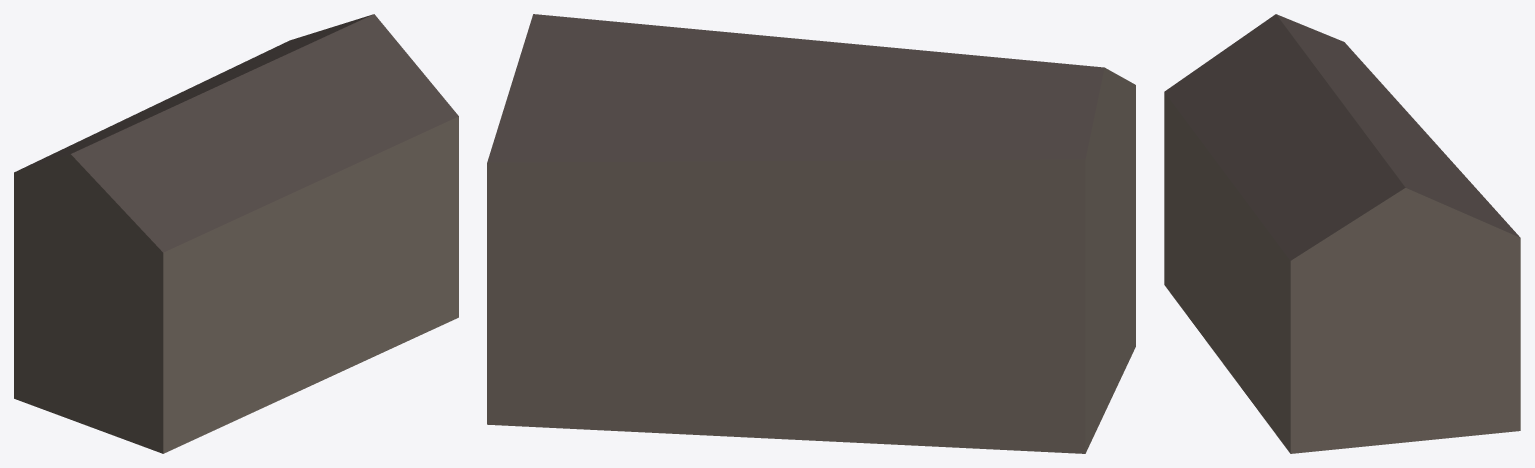
3 views of the same model, side by side, from view 1: azimuth 30°, elevation 25°; view 2: azimuth 150°, elevation 25°; view 3: azimuth 270°, elevation 25° (orthographic). The views are drawn at different scales.
Parts seen in each view (by area): view 1: HP-w1197596637; view 2: HP-w1197596637; view 3: HP-w1197596637.
Part boxes in pixels (left/top/right/bottom): HP-w1197596637: left=14, top=14, right=458, bottom=453; HP-w1197596637: left=487, top=14, right=1135, bottom=453; HP-w1197596637: left=1164, top=14, right=1520, bottom=453.
Bounding box in the file's own units: 13.01 × 7.92 × 10.05.
